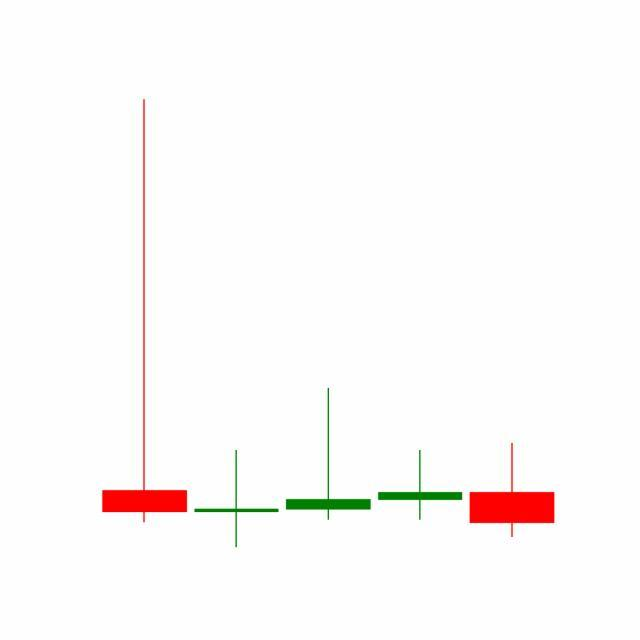Spinning Top: (374, 450, 468, 523)
